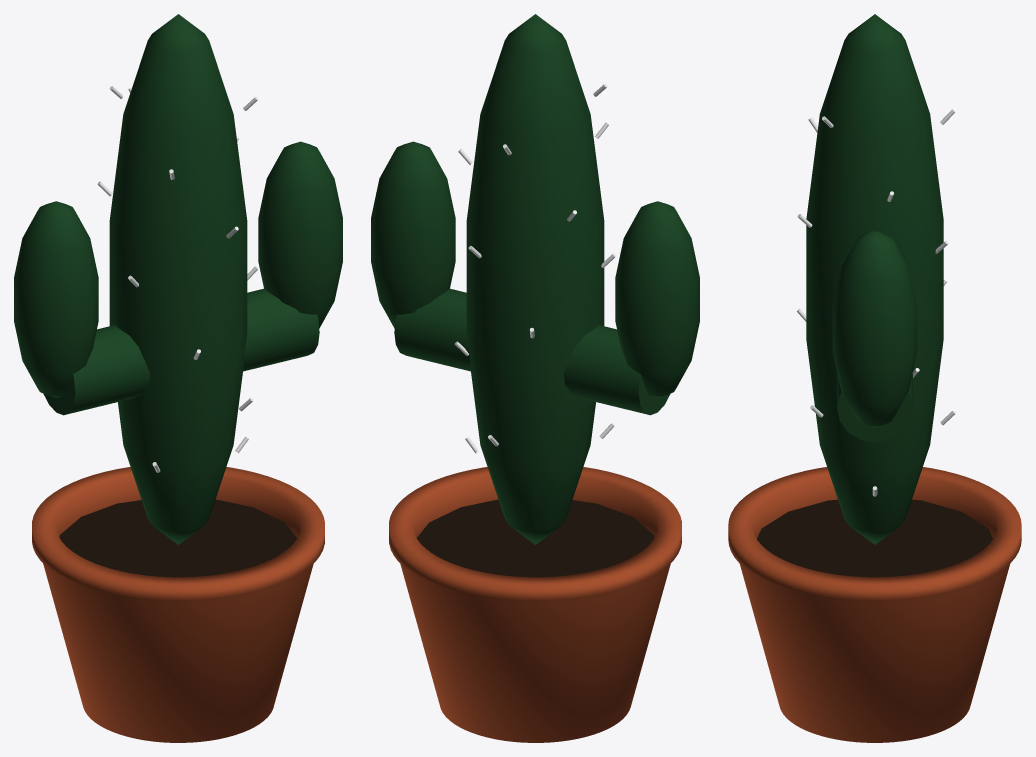
File: Kaktusz_cserepben.obj
3 renders of one model, left to right at view 1: azimuth 30°, elevation 25°; view 2: azimuth 150°, elevation 25°; view 3: azimuth 270°, elevation 25°, orthographic.
Bounding box in the file's own units: 0.338 × 0.7 × 0.2704.
